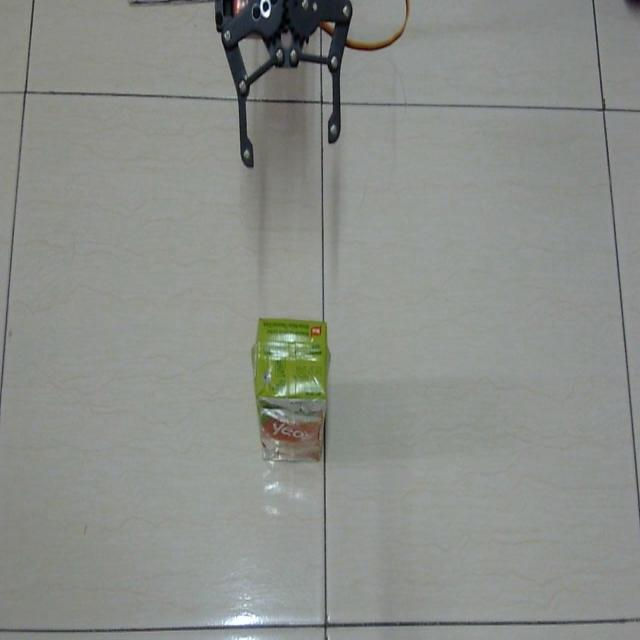plastic_standrotation: (240, 308, 336, 475)
